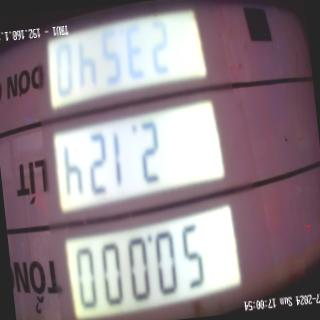screen: (34, 0, 246, 320)
